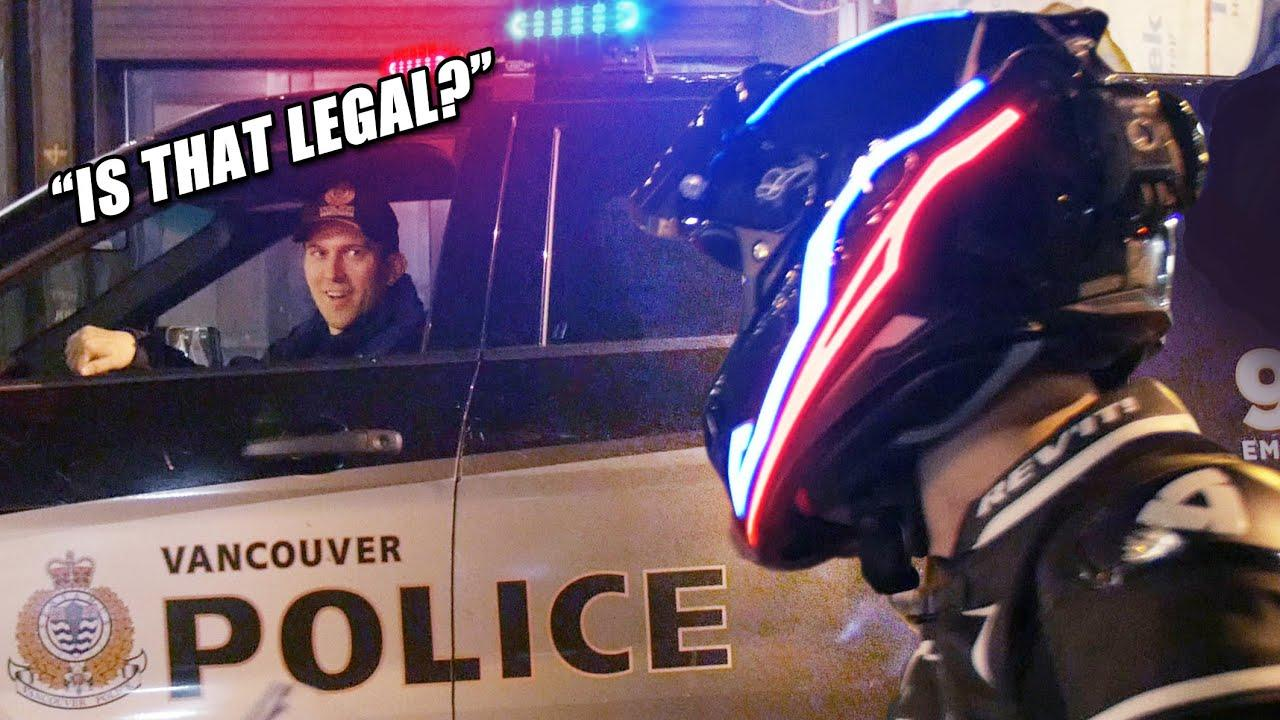helmet: (625, 8, 1212, 573)
nohelmet: (294, 179, 405, 331)
